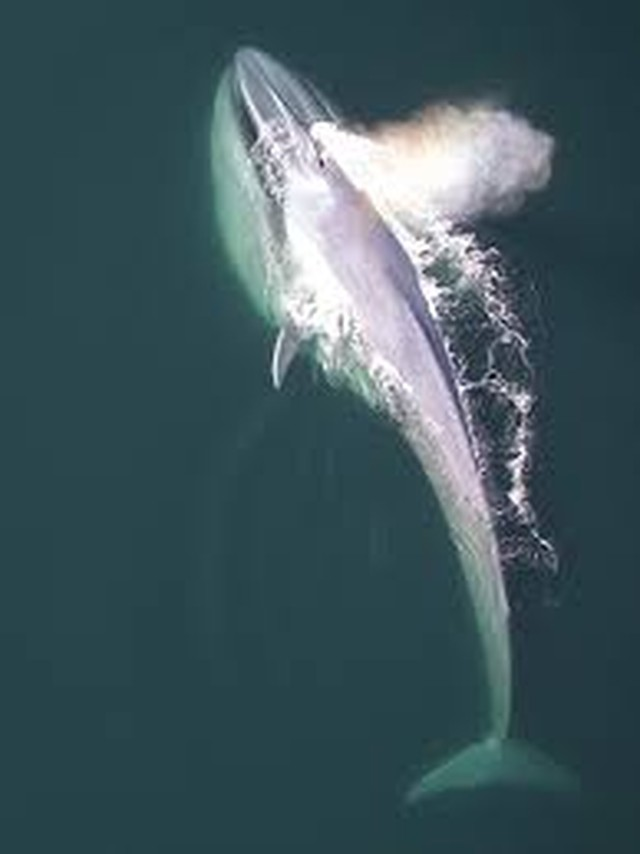whale: (205, 43, 591, 819)
